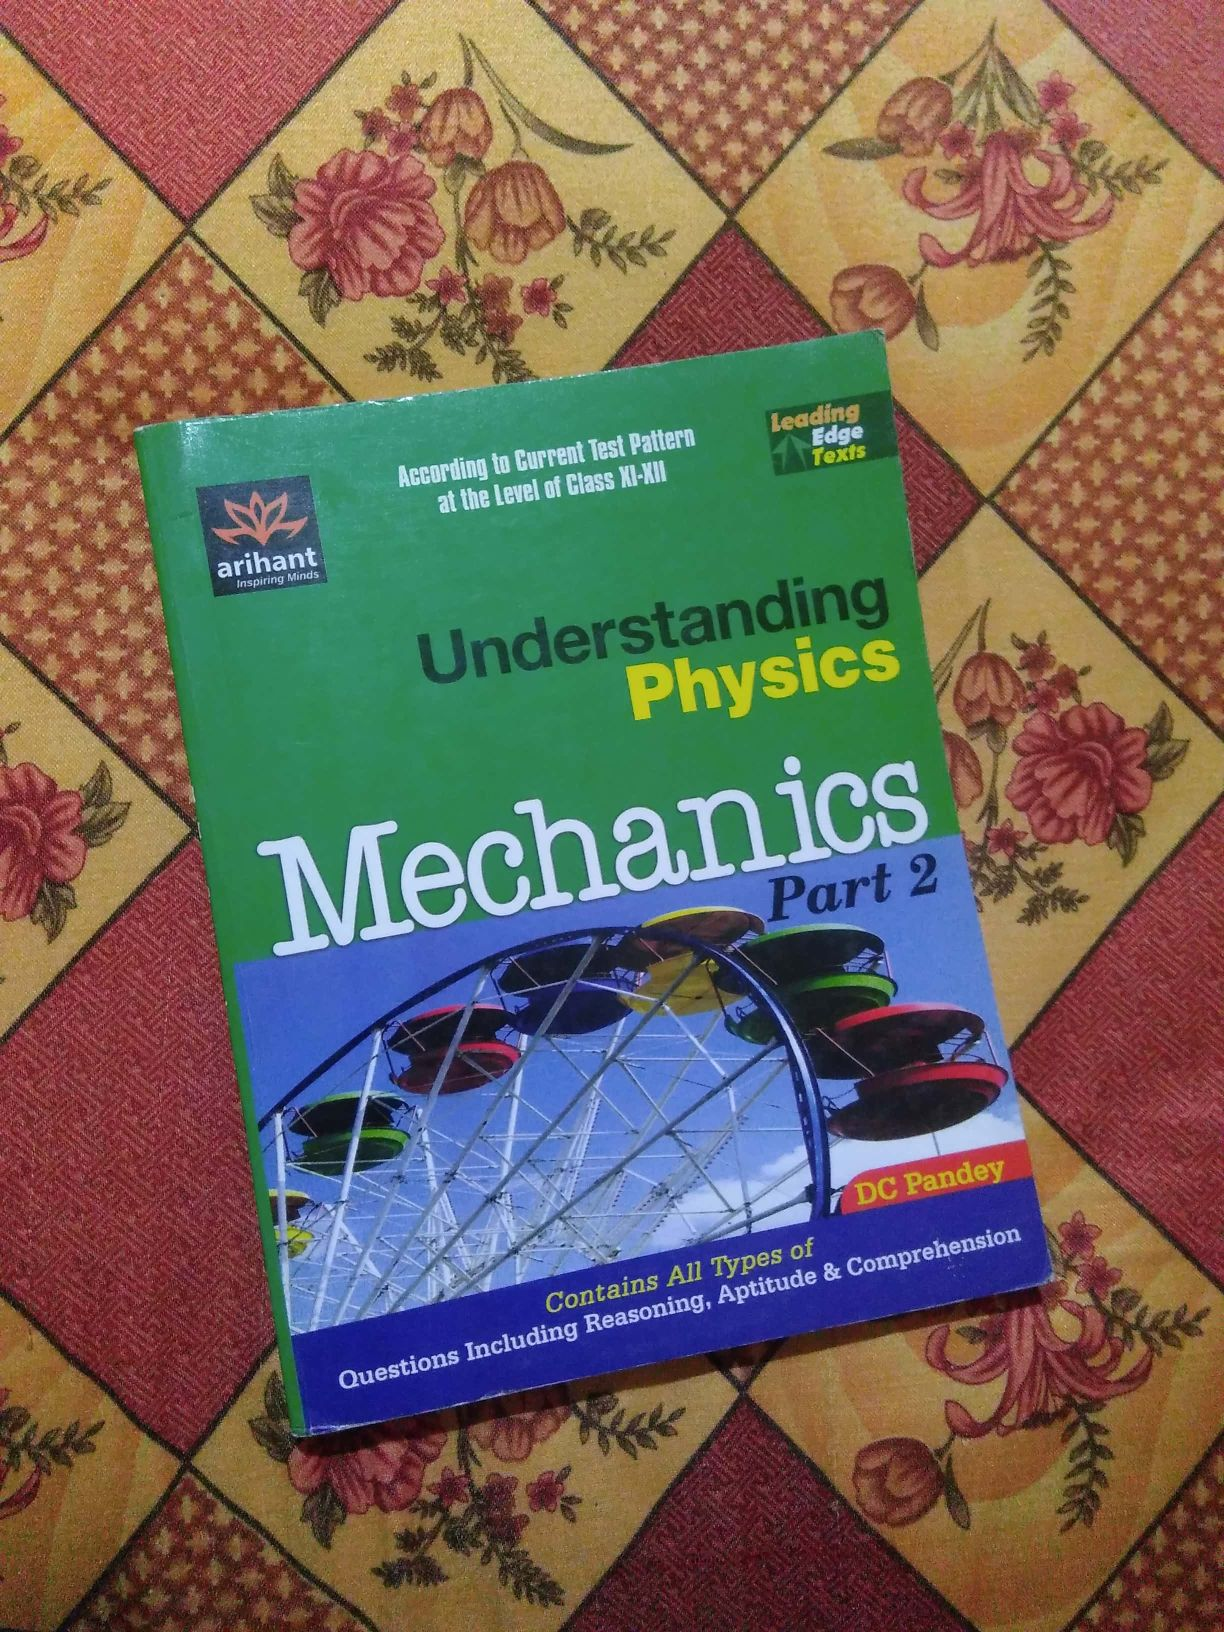mechanics: (58, 348, 1144, 1437)
